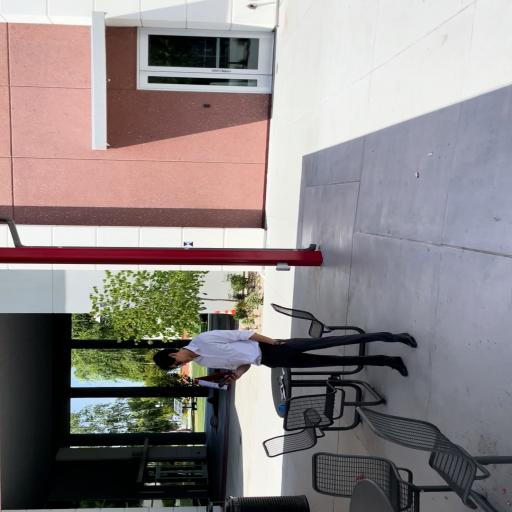target2: (183, 241, 193, 246)
